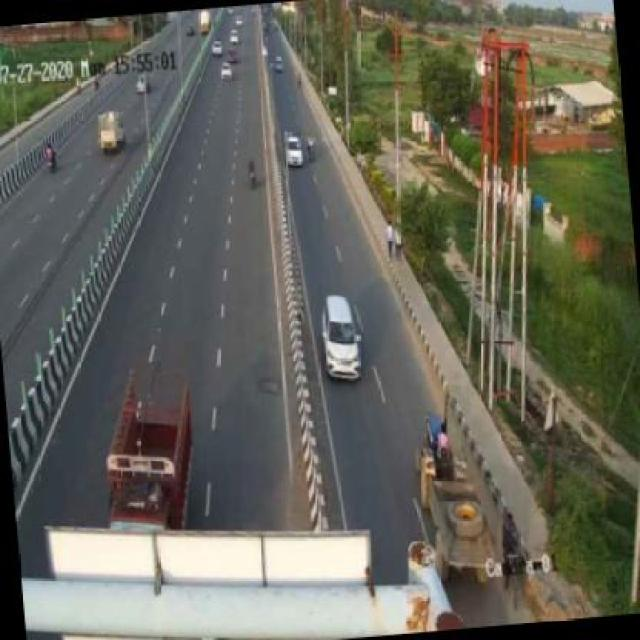car: (312, 286, 371, 391), (286, 134, 309, 169)
